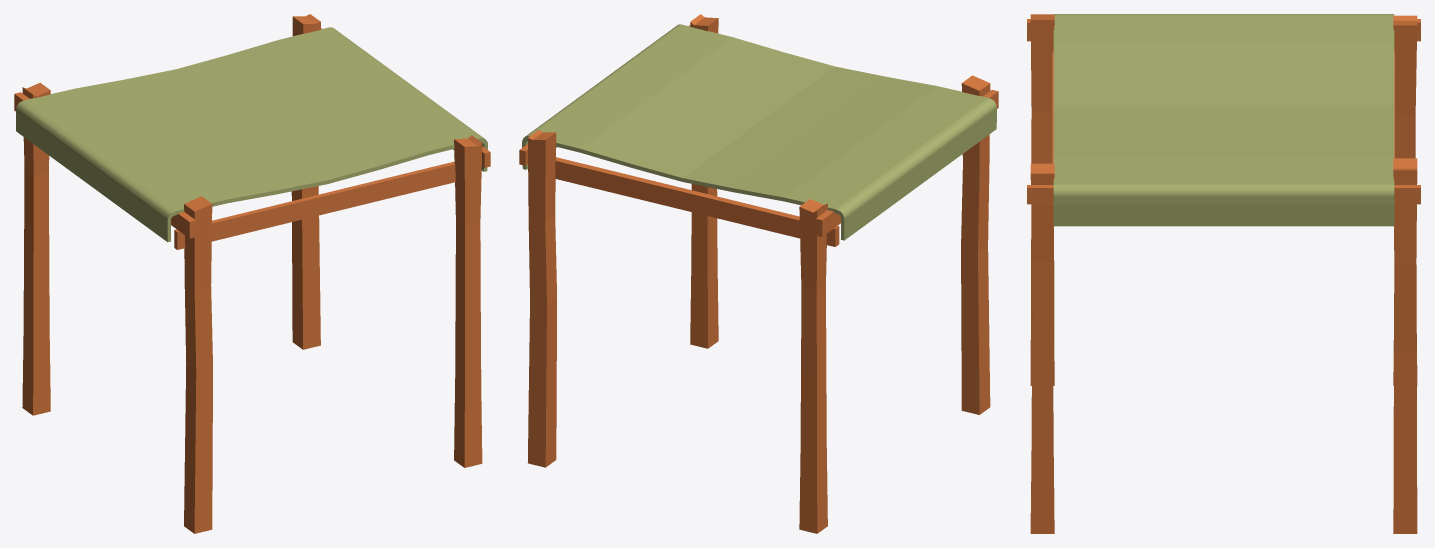
Rendered from WoodBase4.fbx.
3 renders of one model, left to right at view 1: azimuth 30°, elevation 25°; view 2: azimuth 150°, elevation 25°; view 3: azimuth 270°, elevation 25°, orthographic. The views are drawn at different scales.
Parts seen in each view (by area): view 1: WoodBase4; view 2: WoodBase4; view 3: WoodBase4.
Part boxes in pixels (bbox=[...]): WoodBase4: bbox=[14, 14, 490, 533]; WoodBase4: bbox=[519, 14, 998, 533]; WoodBase4: bbox=[1027, 14, 1420, 533].
Size of the model in its own units: 211 by 205 by 200.
